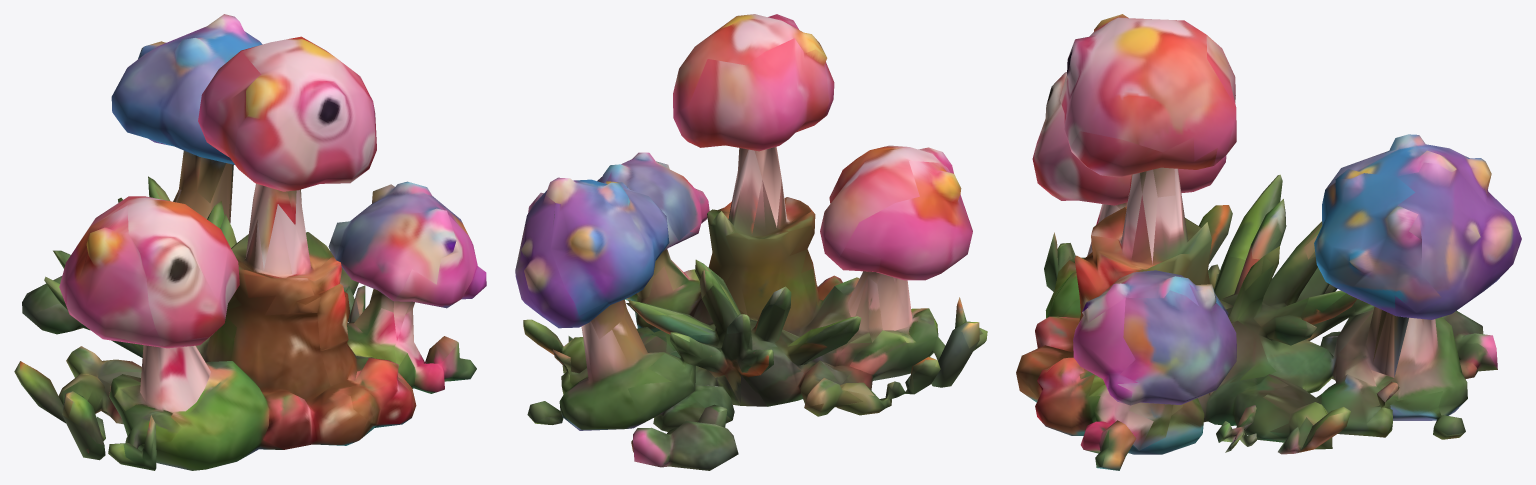
The model's file is CF_Mushrooms.fbx.
3 views of the same model, side by side, from view 1: azimuth 30°, elevation 25°; view 2: azimuth 150°, elevation 25°; view 3: azimuth 270°, elevation 25° (orthographic). The views are drawn at different scales.
Parts seen in each view (by area): view 1: CF_Mushrooms; view 2: CF_Mushrooms; view 3: CF_Mushrooms.
Part boxes in pixels (x1,y1,x2,y2): CF_Mushrooms: (14,14,486,470); CF_Mushrooms: (515,14,987,470); CF_Mushrooms: (1016,14,1521,470).
Size of the model in its own units: 3.69 by 3 by 3.68.
